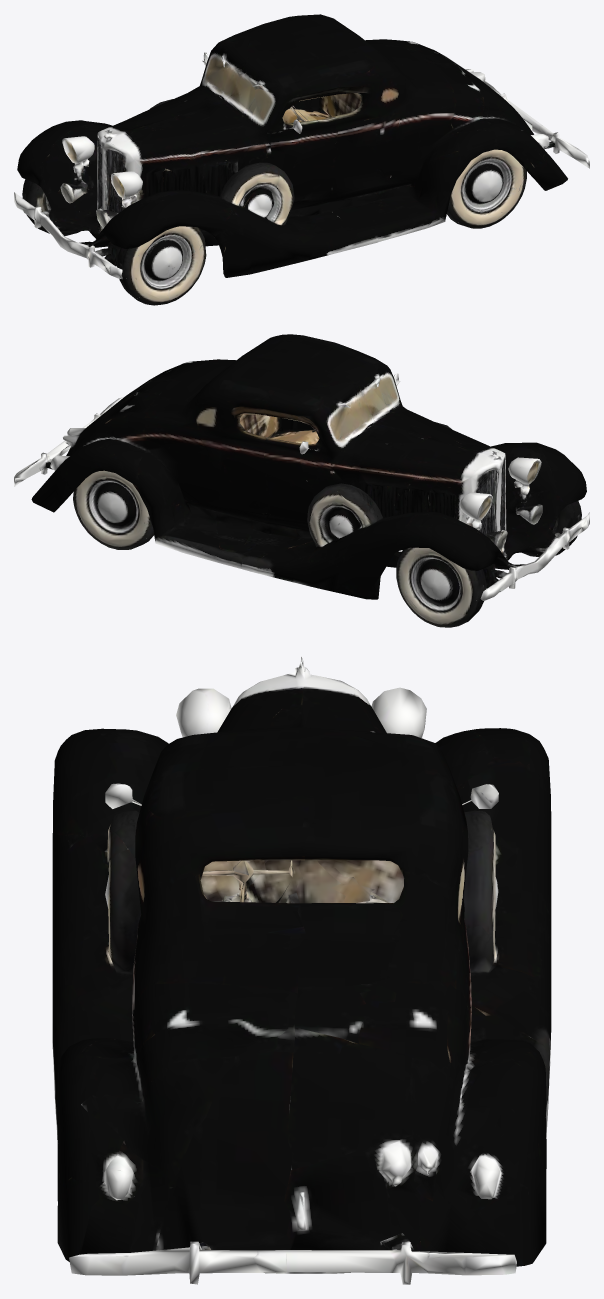
The model's file is klasik-roda-lite.glb.
3 views of the same model, one above another, from view 1: azimuth 30°, elevation 25°; view 2: azimuth 150°, elevation 25°; view 3: azimuth 270°, elevation 25° (orthographic). The views are drawn at different scales.
Visible parts, largest first — view 1: body, wheel_AR, wheel_BR; view 2: body, wheel_AL, wheel_BL; view 3: body.
Part boxes in pixels (left/top/right/bottom): body: left=14, top=14, right=589, bottom=305; wheel_AR: left=127, top=226, right=205, bottom=304; wheel_BR: left=448, top=148, right=532, bottom=227; body: left=14, top=334, right=589, bottom=627; wheel_AL: left=396, top=547, right=476, bottom=627; wheel_BL: left=67, top=469, right=152, bottom=549; body: left=52, top=657, right=551, bottom=1284.
Size of the model in its own units: 1.9 by 0.6874 by 0.8656.
Materials: 1 (1 with a texture image).
